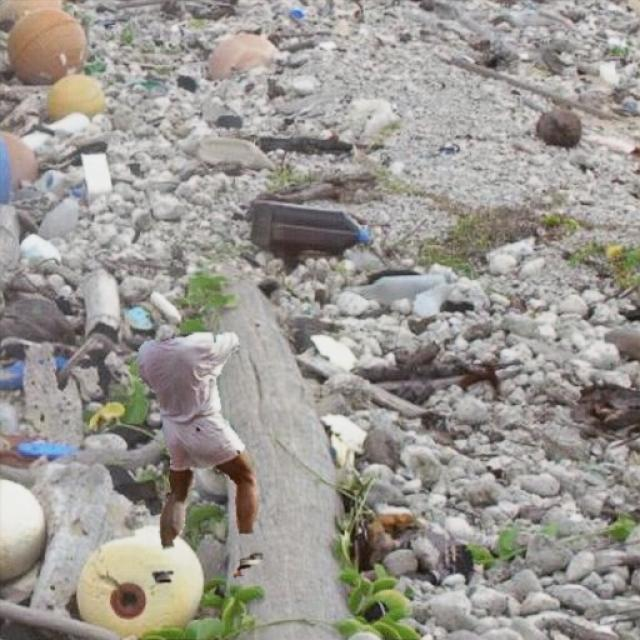Person in Rubble: (136, 332, 262, 582)
